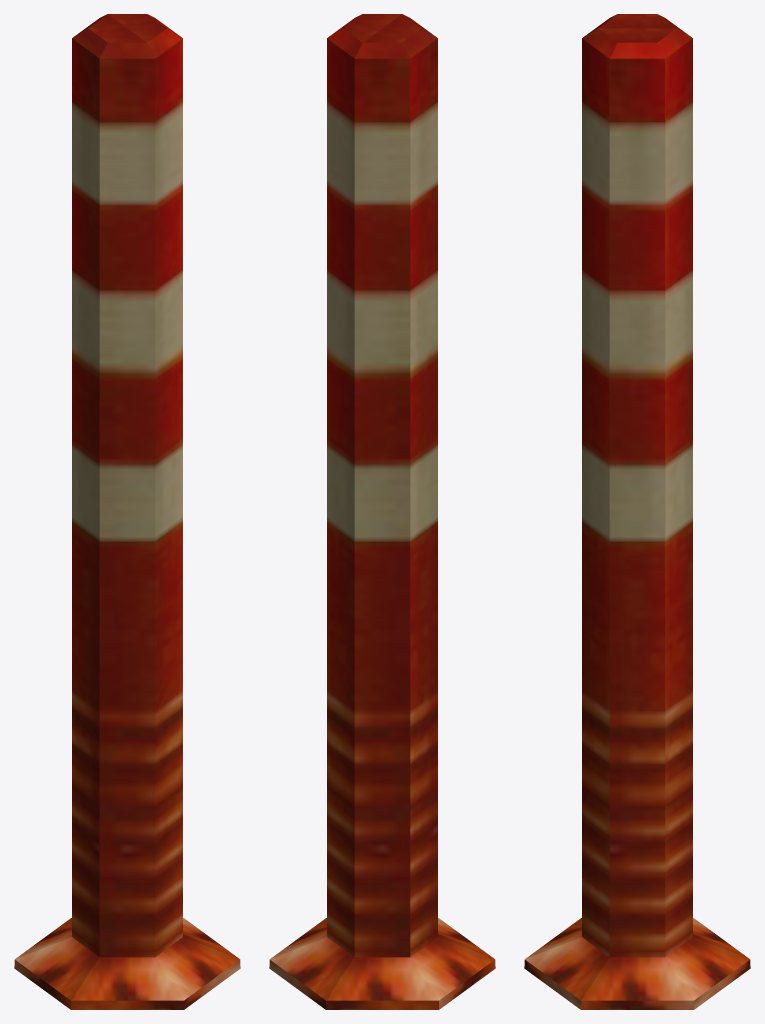
File: Urban_SimpleBollard_Model.fbx
3 renders of one model, left to right at view 1: azimuth 30°, elevation 25°; view 2: azimuth 150°, elevation 25°; view 3: azimuth 270°, elevation 25°, orthographic.
Visible parts, largest first — view 1: Urban_SimpleBollard_Mesh; view 2: Urban_SimpleBollard_Mesh; view 3: Urban_SimpleBollard_Mesh.
Boxes of the visible parts, left/top/right/bottom form: Urban_SimpleBollard_Mesh: left=14, top=14, right=240, bottom=1009; Urban_SimpleBollard_Mesh: left=269, top=14, right=495, bottom=1009; Urban_SimpleBollard_Mesh: left=524, top=14, right=750, bottom=1009.
Bounding box in the file's own units: 0.2326 × 1.23 × 0.2685.
